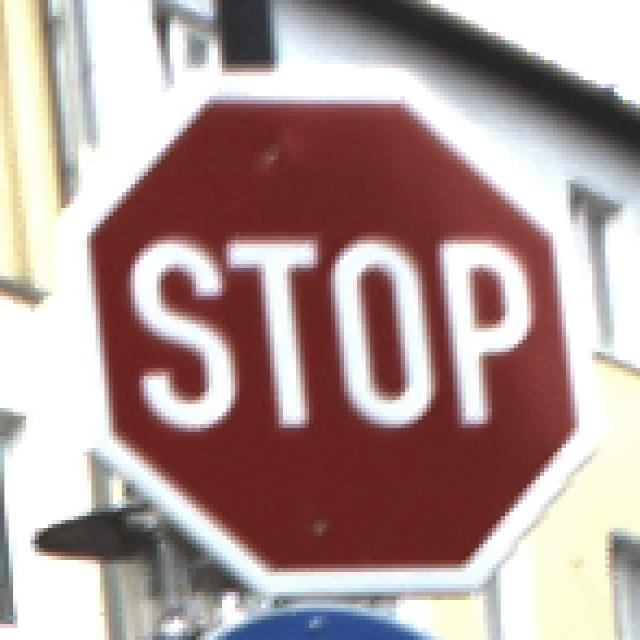STOP: (58, 57, 589, 585)
